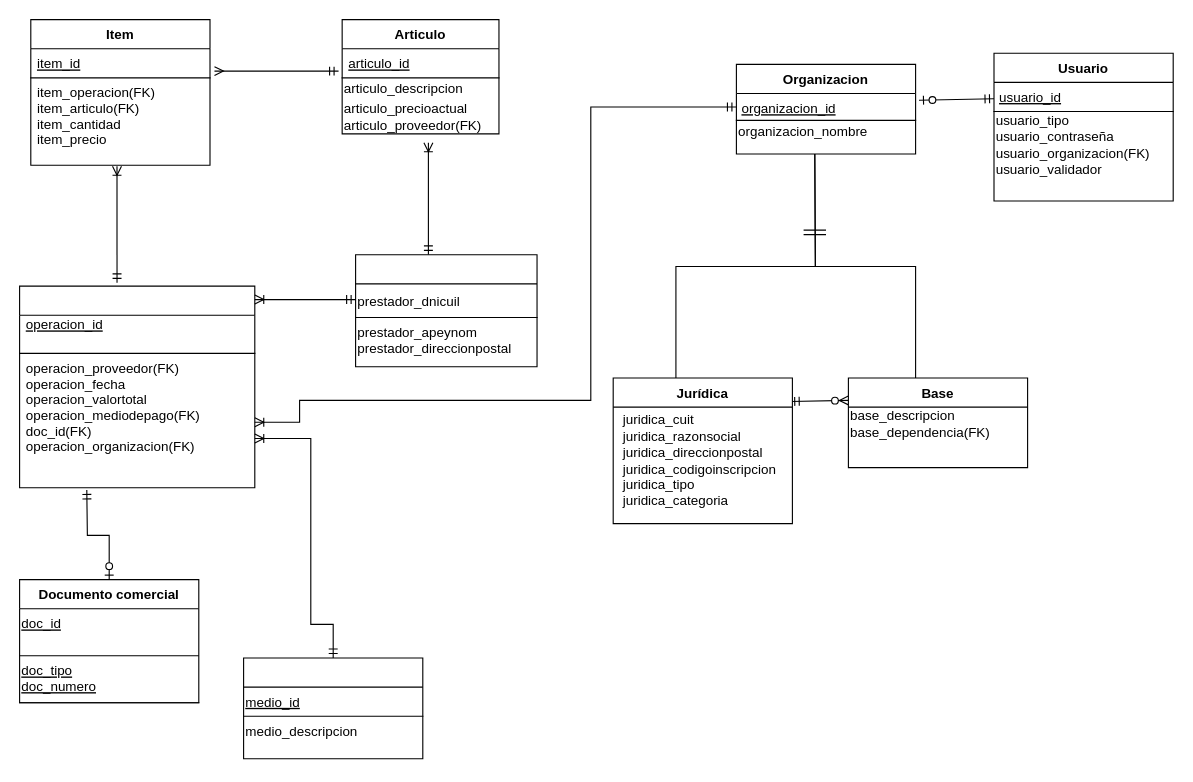
The diagram is 1193 pixels wide and 782 high, and some of its shapes have lost their labels. Each missing label, with the box of its shape:
Medio de Pago: (242, 657, 423, 759)
Operacion de Egreso: (18, 285, 255, 488)
Prestador de Servicio: (354, 254, 537, 367)
